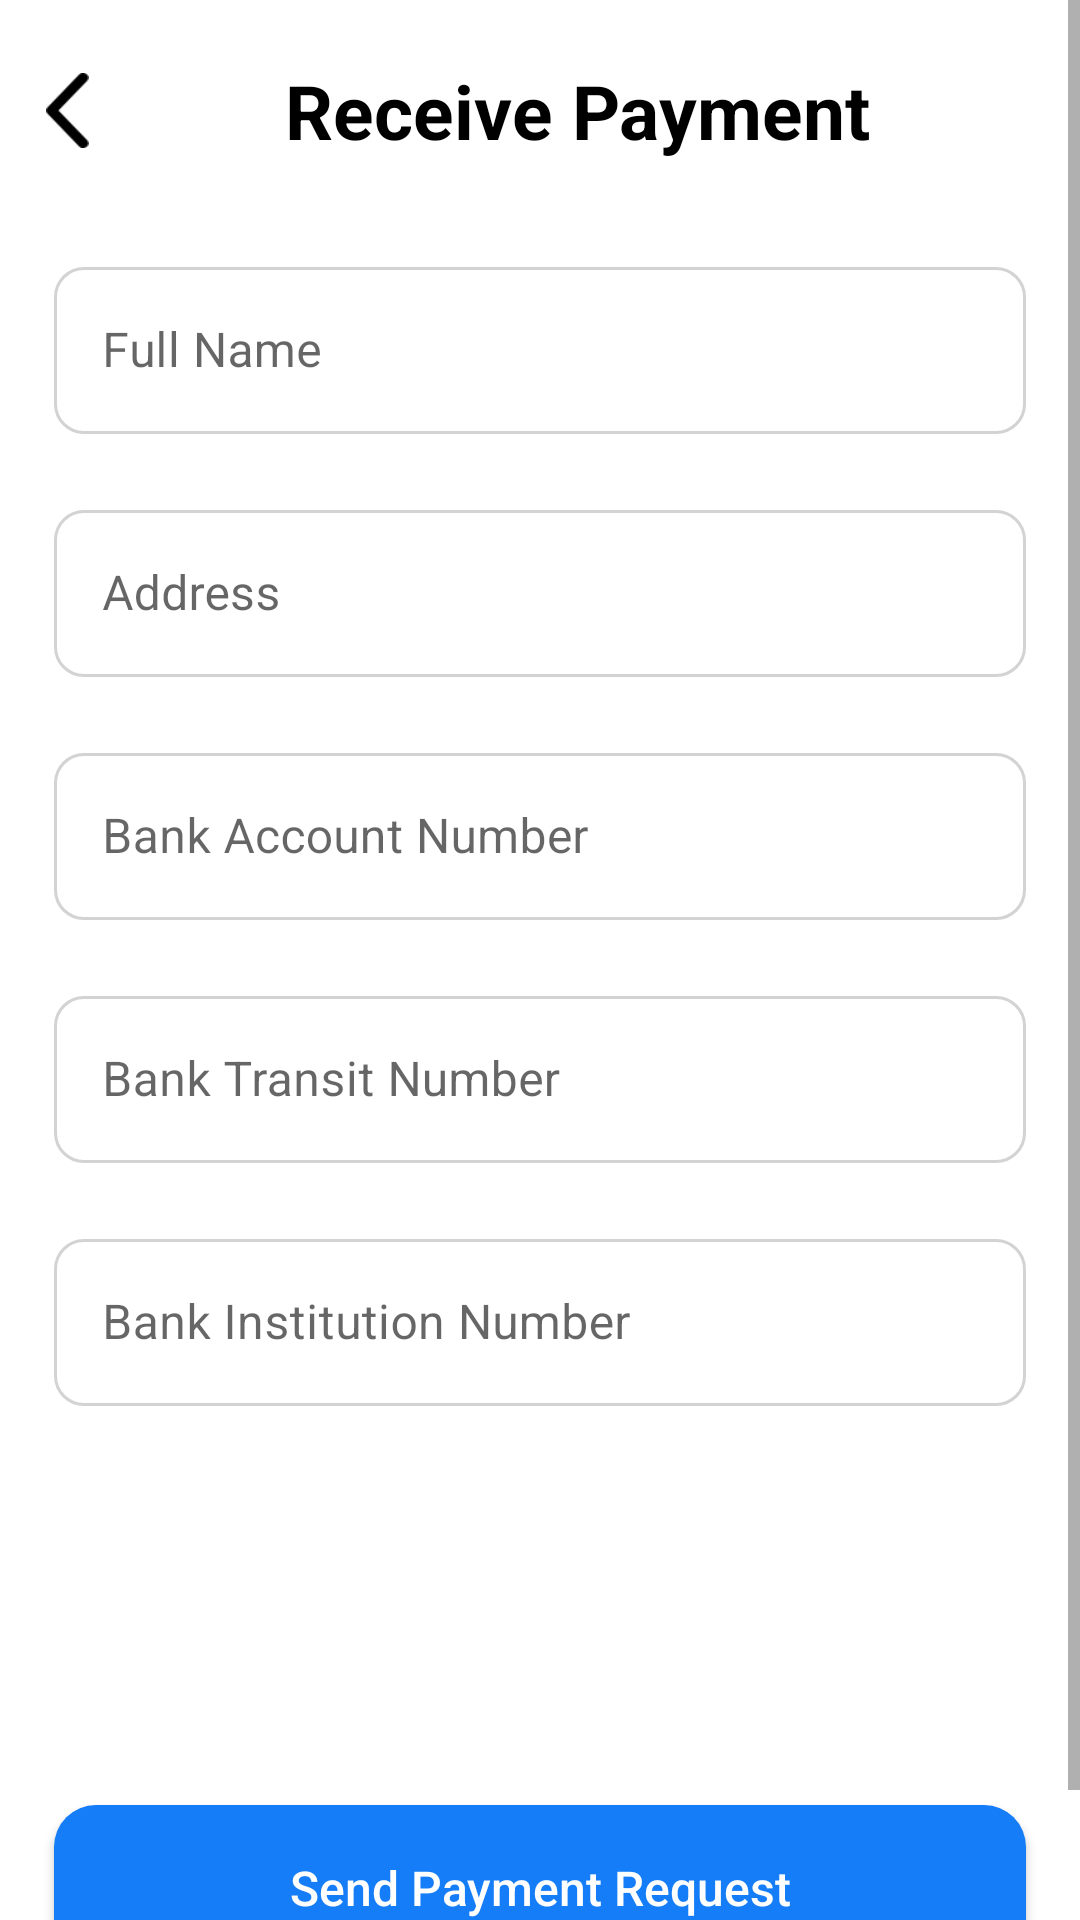

Icons on this 1080px×1920px Android screen, each with its box as [x1,y1,x2,y2]:
back: [46,73,89,148]
